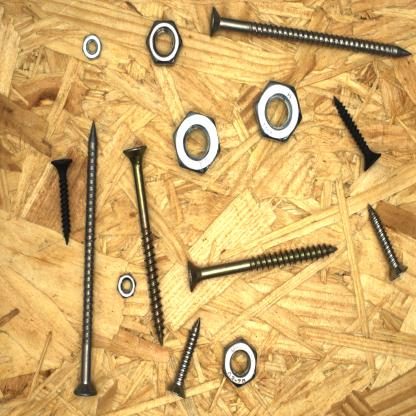screw: (207, 3, 415, 66), (122, 141, 166, 349), (183, 240, 341, 297), (71, 118, 102, 401), (330, 92, 386, 176), (365, 200, 411, 284), (164, 313, 204, 401), (48, 154, 76, 248)
